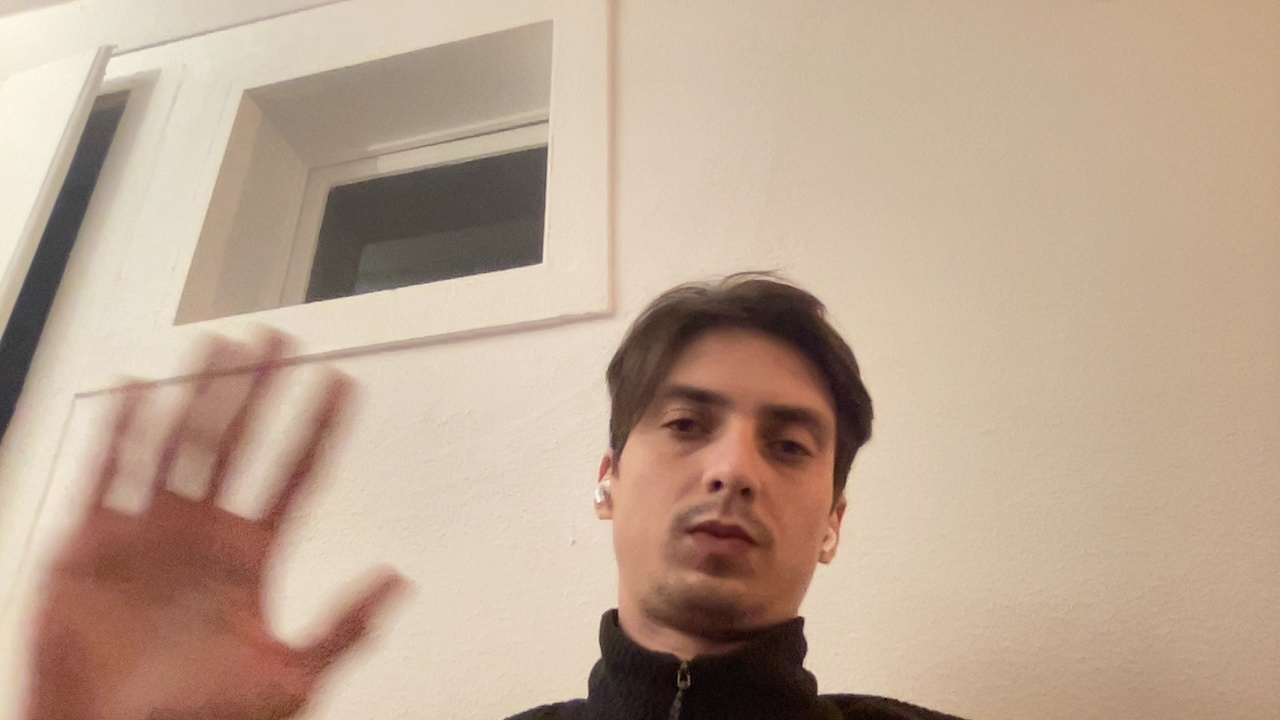Hello: (1, 277, 413, 720)
